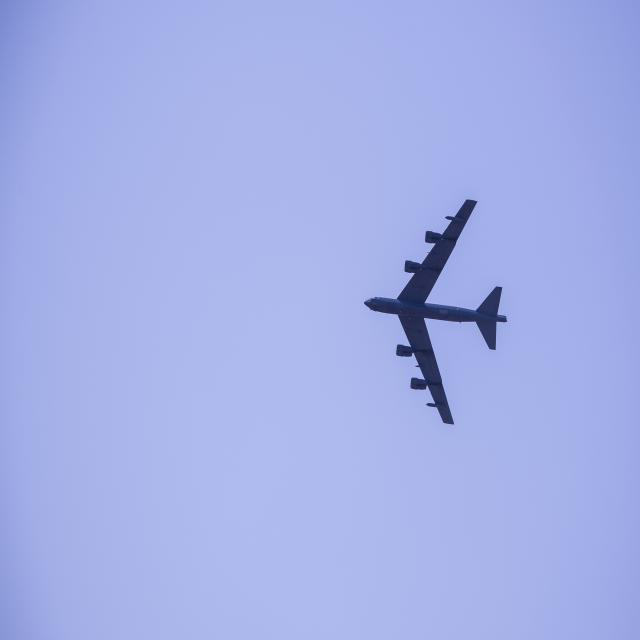MIL_Plane: (365, 7, 506, 233)
